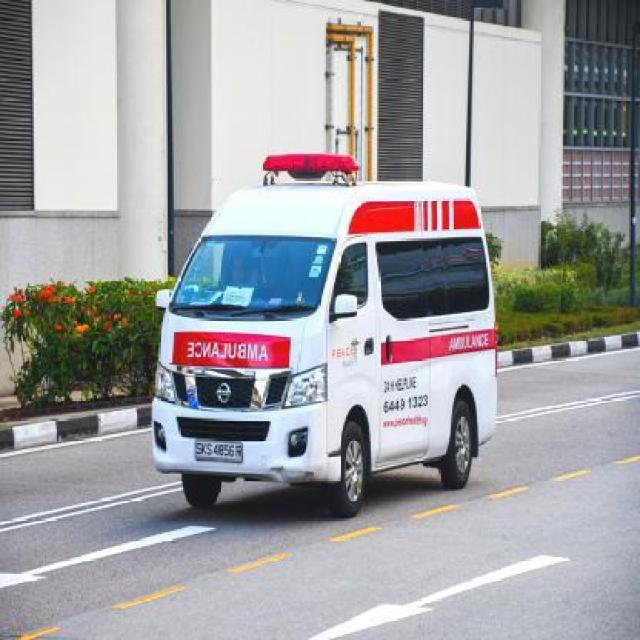Ambulance: (156, 146, 514, 524)
